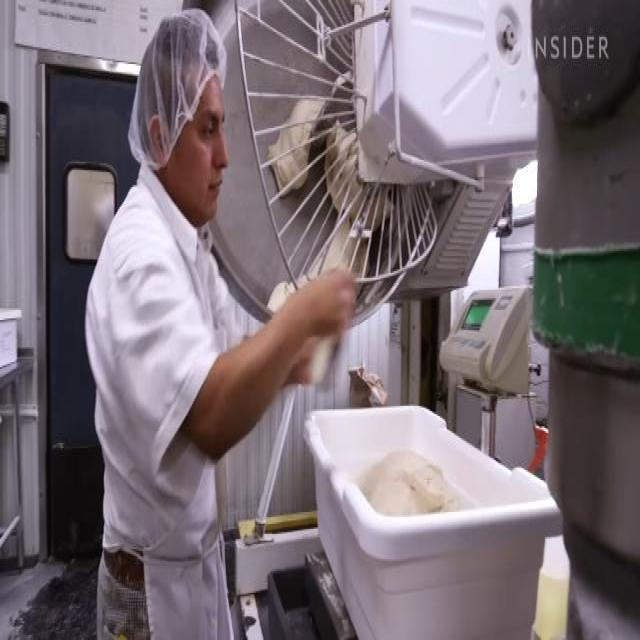bare_hand: (285, 259, 377, 365)
